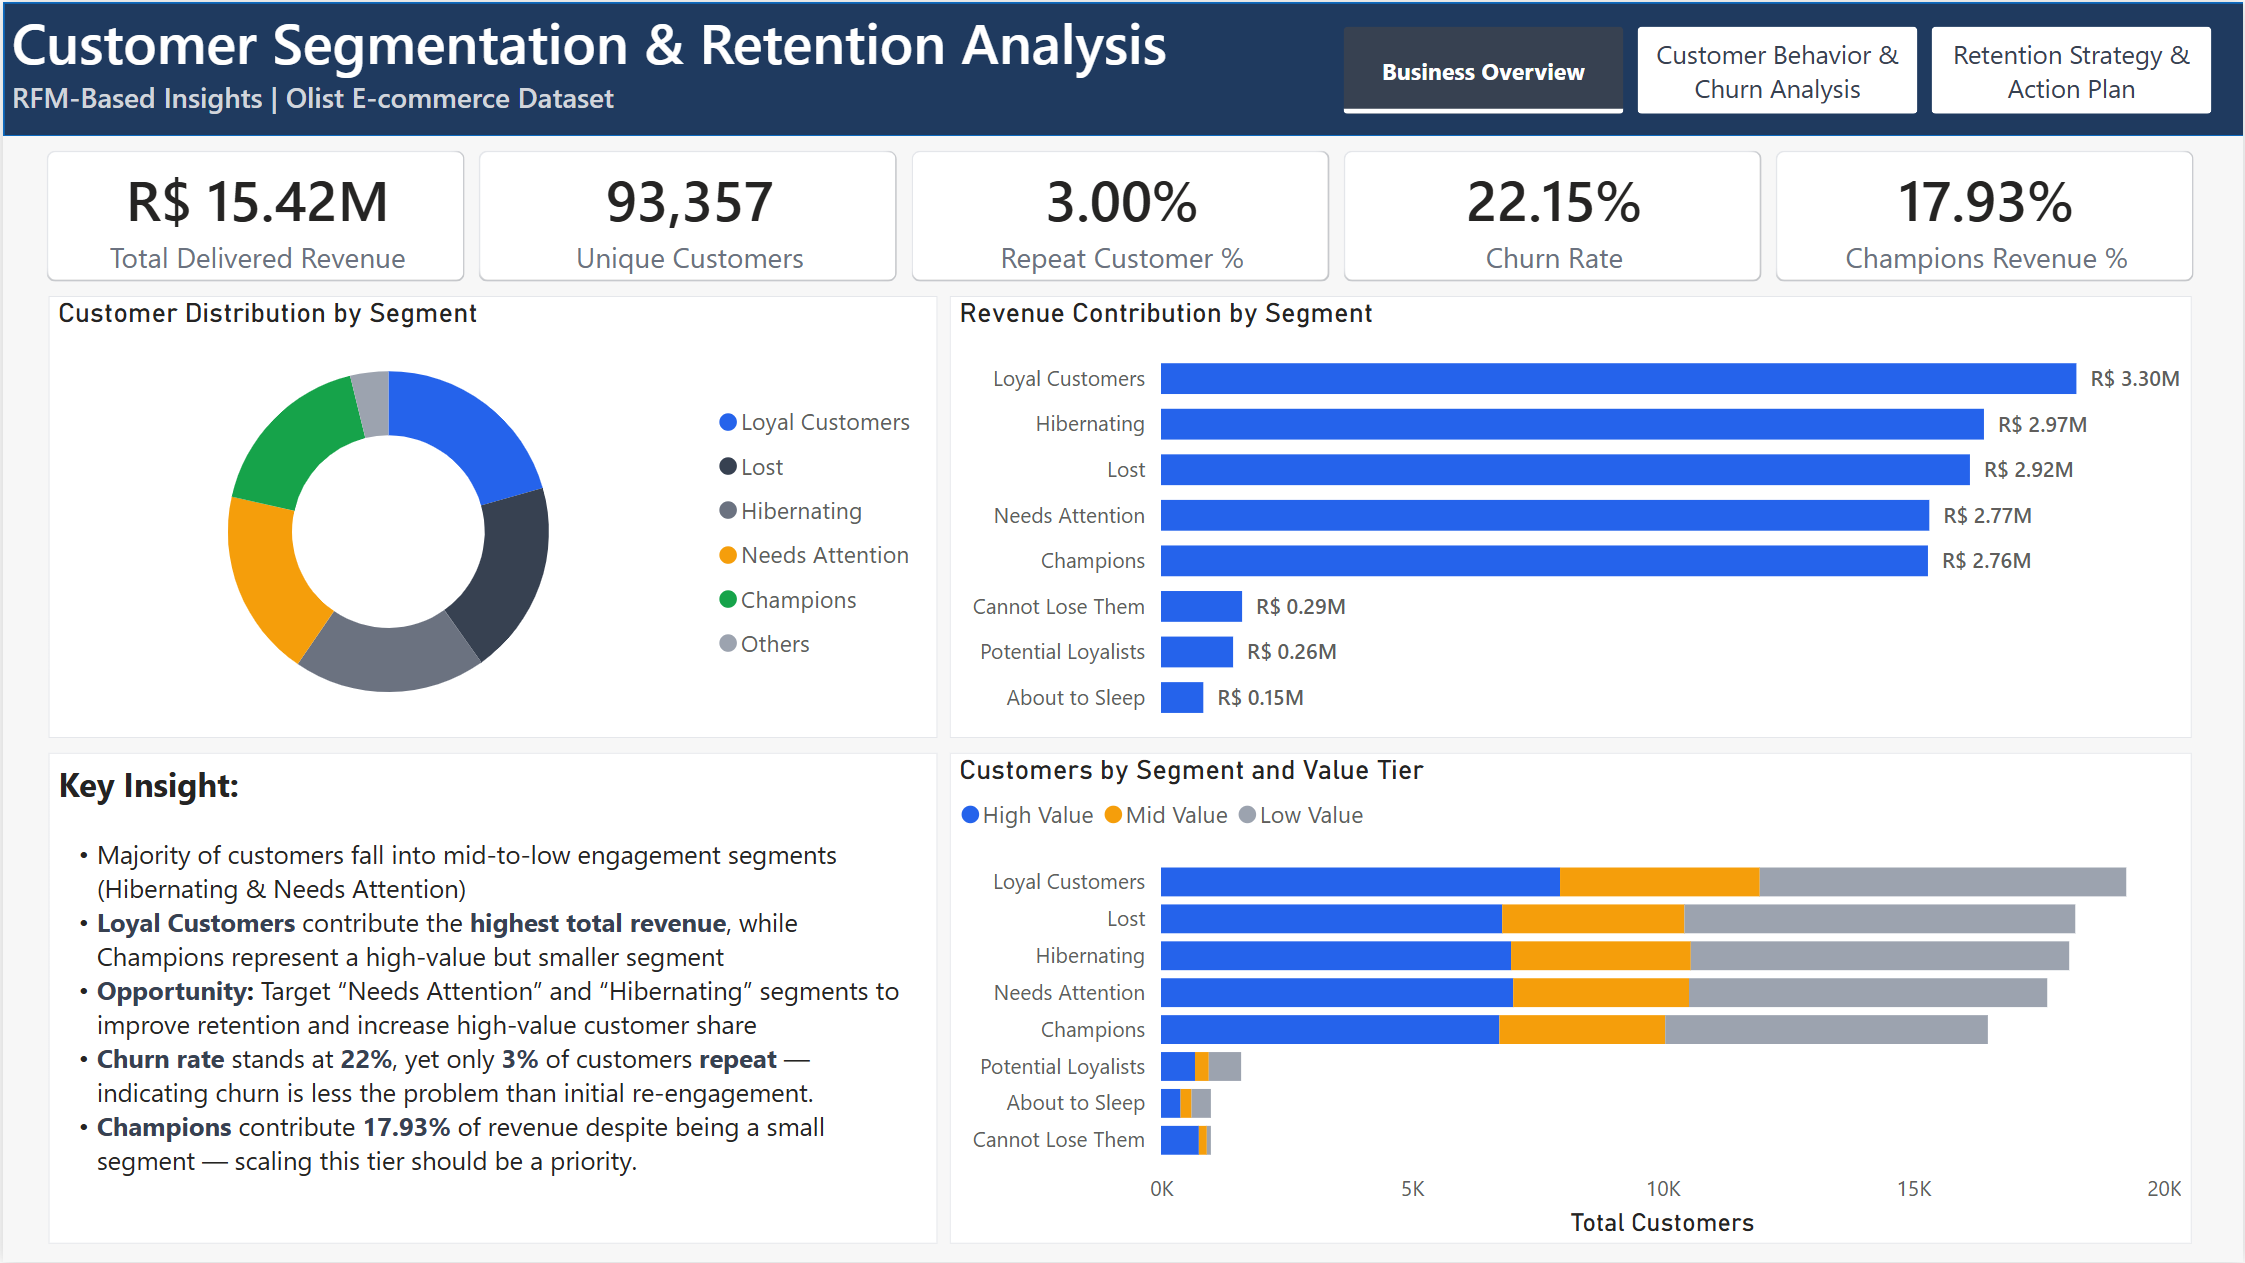

Layout of this report page (visuals, bound fields, positions):
{"tool":"powerbi","page":{"name":"Business Overview","canvas":[1280,720],"ordinal":0},"visuals":[{"type":"shape","box":[0,0,1280.9,77],"z":0},{"type":"textbox","box":[0,1.2,740,78.8],"z":1000},{"type":"cardVisual","fields":{"Data":["_Calculations.Total Revenue","_Calculations.Total Customers","_Calculations.Repeat Customer %","_Calculations.Churn Rate","_Calculations.Champions Revenue %"]},"box":[10,70,1261.2,105],"z":2000},{"type":"donutChart","title":"Customer Distribution by Segment","fields":{"Y":["_Calculations.Total Customers"],"Category":["vw_RFM_Segments.Segment_Group"]},"box":[26.2,167.5,507.5,253],"z":3000},{"type":"barChart","title":"Revenue Contribution by Segment","fields":{"Y":["_Calculations.Total Revenue"],"Category":["Dim_Segment.customer_segment"]},"box":[541.2,167.5,710,253],"z":4000},{"type":"barChart","title":"Customers by Segment and Value Tier","fields":{"Y":["_Calculations.Total Customers"],"Category":["Dim_Segment.customer_segment"],"Series":["Value tier rank.value_tier"]},"box":[541.2,429,710,281.2],"z":5000},{"type":"textbox","box":[26,429,508,281],"z":6000},{"type":"pageNavigator","box":[765.6,14.4,498.9,50],"z":7000}]}

Visuals, with their boxes in screenshot pixels (x1, y1, x2, y2), scaled from the page's 1280x720 canvas onto the 2245x1263 screenshot:
shape: pyautogui.locateOnScreen(0, 0, 2244, 135)
textbox: pyautogui.locateOnScreen(0, 2, 1298, 140)
cardVisual - _Calculations.Total Revenue x _Calculations.Total Customers: pyautogui.locateOnScreen(18, 123, 2230, 307)
"Customer Distribution by Segment" donutChart: pyautogui.locateOnScreen(46, 294, 936, 738)
"Revenue Contribution by Segment" barChart: pyautogui.locateOnScreen(949, 294, 2194, 738)
"Customers by Segment and Value Tier" barChart: pyautogui.locateOnScreen(949, 753, 2194, 1246)
textbox: pyautogui.locateOnScreen(46, 753, 937, 1245)
pageNavigator: pyautogui.locateOnScreen(1343, 25, 2218, 113)
